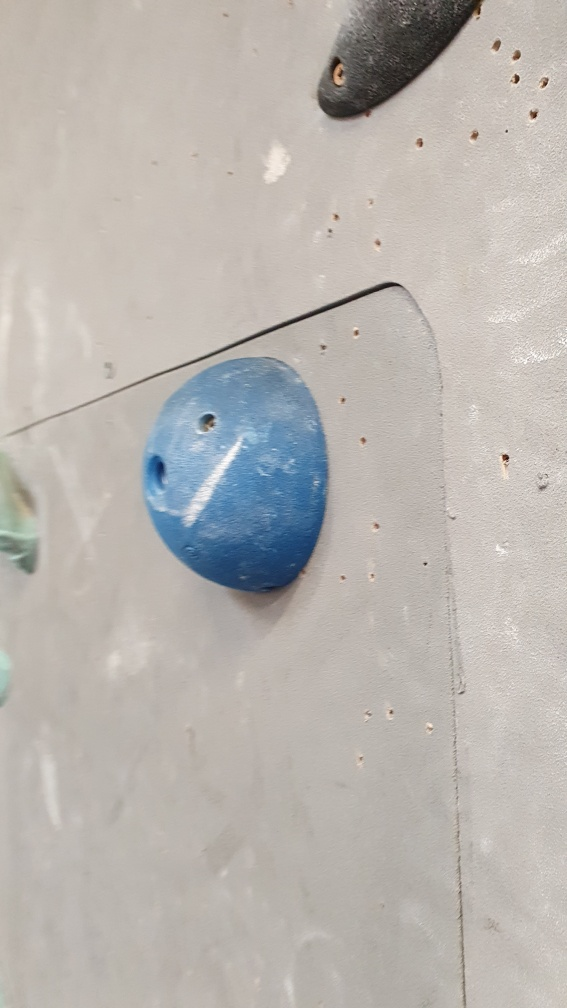Sloper: (131, 355, 333, 598)
